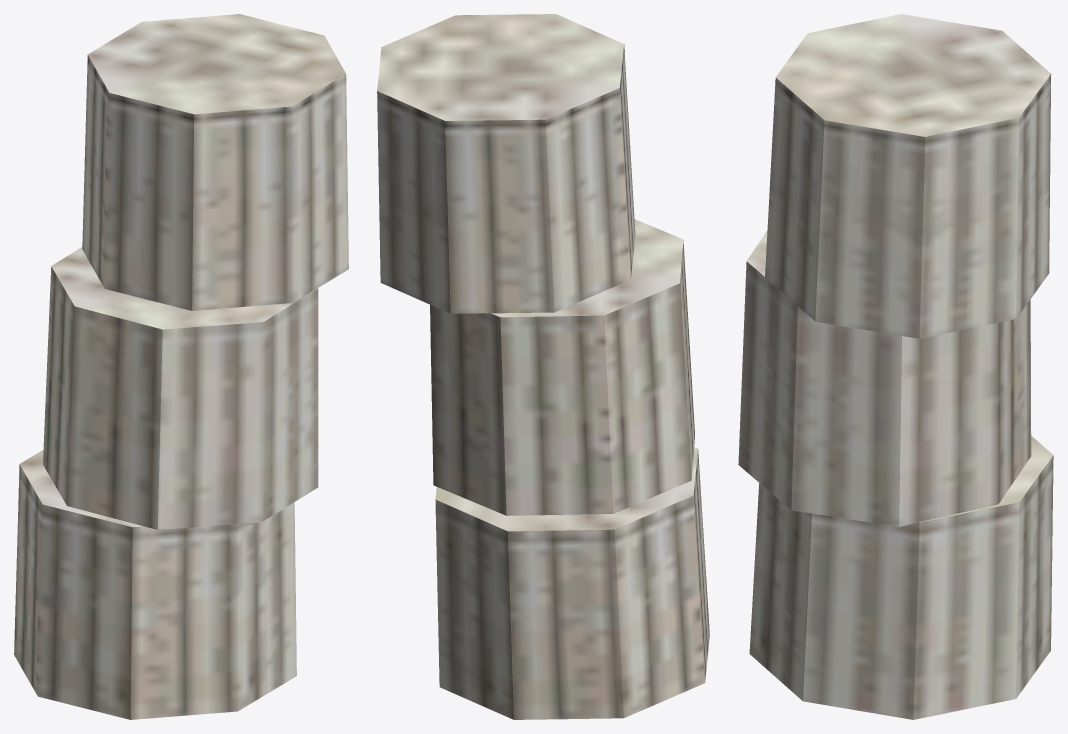
The model's file is column_fallen_d.dae.
3 renders of one model, left to right at view 1: azimuth 30°, elevation 25°; view 2: azimuth 150°, elevation 25°; view 3: azimuth 270°, elevation 25°, orthographic. The views are drawn at different scales.
Visible parts, largest first — view 1: broken003-Pivot; view 2: broken003-Pivot; view 3: broken003-Pivot.
Boxes of the visible parts, left/top/right/bottom form: broken003-Pivot: left=14, top=14, right=348, bottom=719; broken003-Pivot: left=377, top=14, right=709, bottom=719; broken003-Pivot: left=738, top=14, right=1053, bottom=719.
Size of the model in its own units: 2.37 by 2.01 by 4.38.
